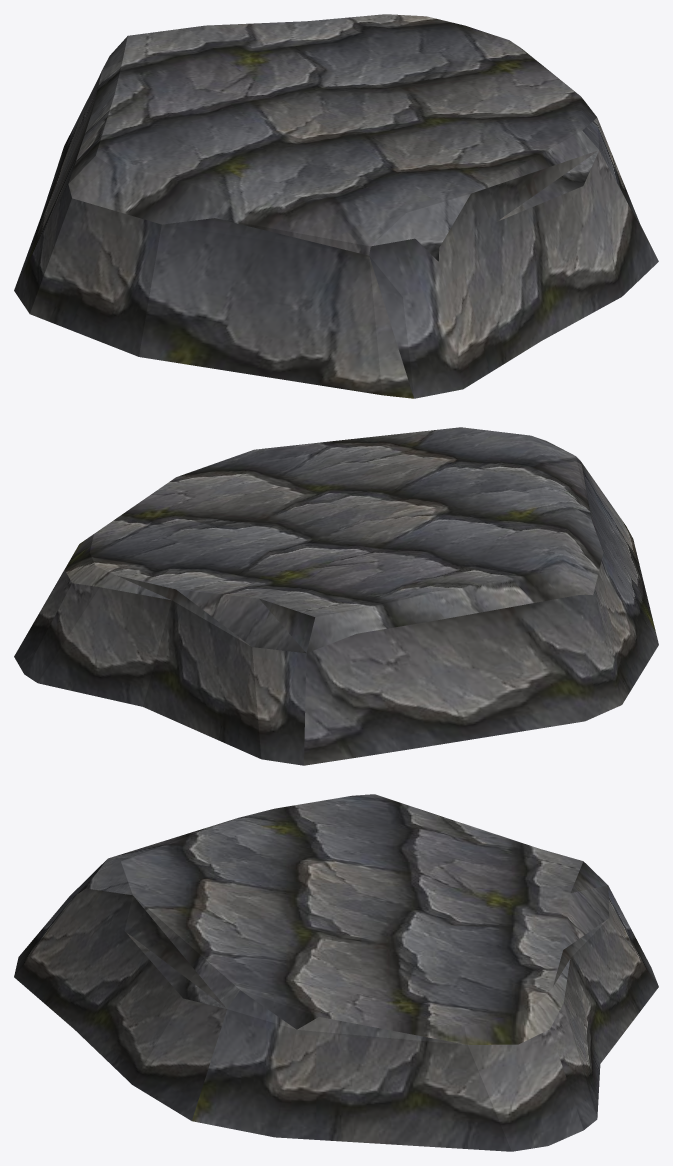
The model's file is gpebble_round_3.glb.
3 renders of one model, top to bottom at view 1: azimuth 30°, elevation 25°; view 2: azimuth 150°, elevation 25°; view 3: azimuth 270°, elevation 25°, orthographic. The views are drawn at different scales.
Visible parts, largest first — view 1: model; view 2: model; view 3: model.
Part boxes in pixels (bbox=[...]): model: bbox=[14, 14, 658, 398]; model: bbox=[14, 427, 658, 765]; model: bbox=[14, 794, 658, 1151].
Bounding box in the file's own units: 0.453 × 0.1147 × 0.4831.
1 material, 1 textured.
